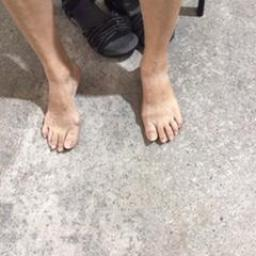Dorsal View -Both Feet-: (35, 45, 186, 165)
